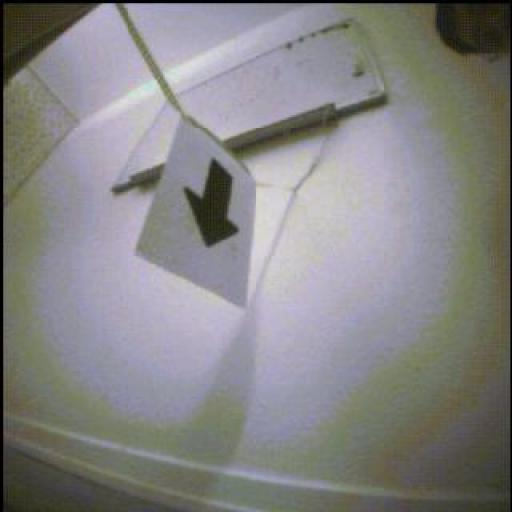Arrow: (185, 161, 239, 247)
